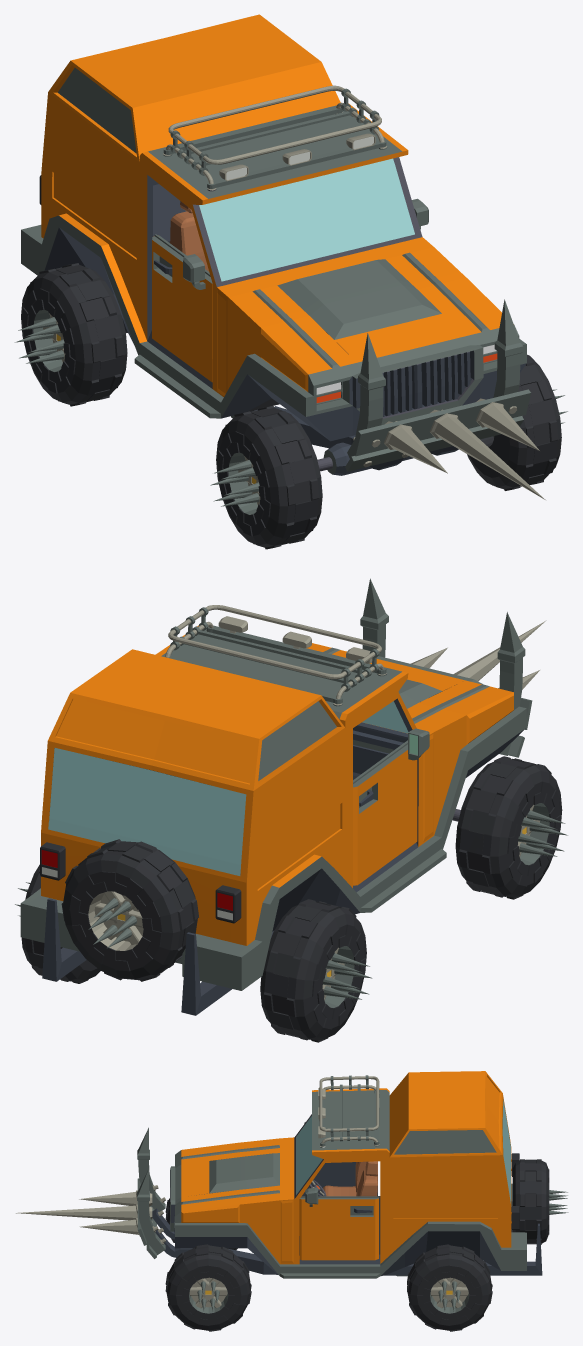
Rendered from zombie_cars.glb.
3 renders of one model, top to bottom at view 1: azimuth 30°, elevation 25°; view 2: azimuth 150°, elevation 25°; view 3: azimuth 270°, elevation 25°, orthographic. The views are drawn at different scales.
Visible parts, largest first — view 1: Chassis, RightFrontWheel, RightBackWheel, LeftFrontWheel; view 2: Chassis, RightFrontWheel, RightBackWheel, LeftBackWheel; view 3: Chassis, LeftFrontWheel, LeftBackWheel.
Boxes of the visible parts, x1,y1,x2,y2 form: Chassis: [21, 14, 545, 499]; RightFrontWheel: [210, 406, 322, 549]; RightBackWheel: [14, 263, 127, 406]; LeftFrontWheel: [467, 354, 567, 490]; Chassis: [20, 578, 546, 1015]; RightFrontWheel: [455, 756, 567, 899]; RightBackWheel: [260, 899, 372, 1042]; LeftBackWheel: [15, 864, 100, 983]; Chassis: [16, 1071, 568, 1278]; LeftFrontWheel: [165, 1244, 251, 1331]; LeftBackWheel: [407, 1244, 492, 1331].
Bounding box in the file's own units: 1.27 × 1.09 × 2.85.
Materials: 2 (1 with a texture image).
